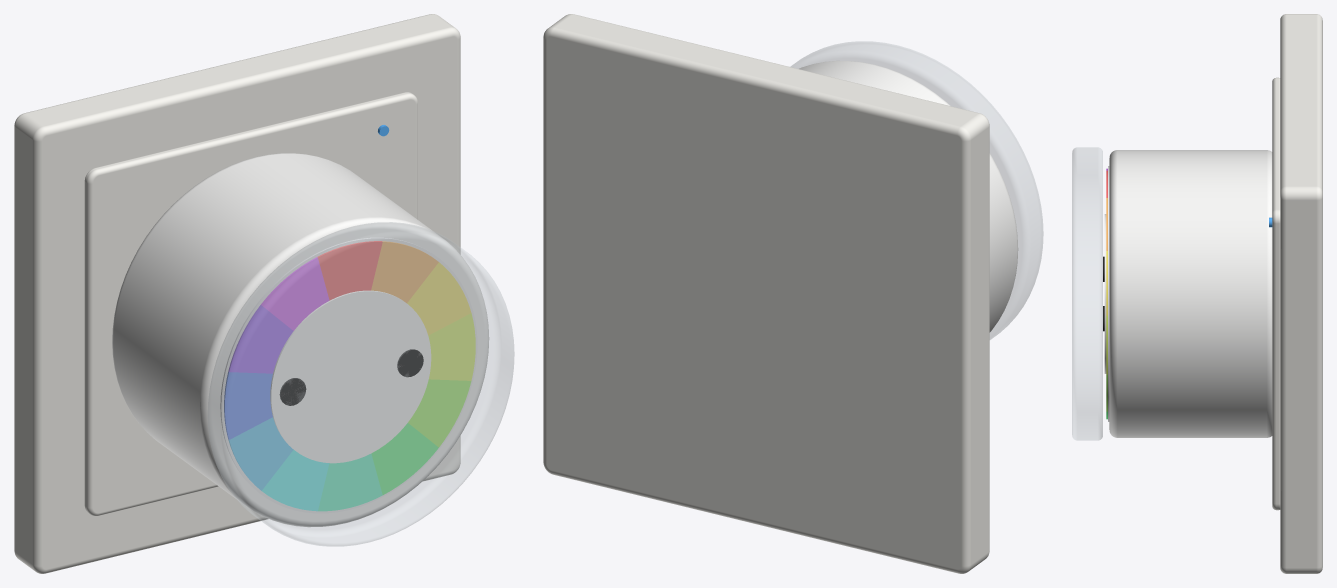
Rendered from nice_zigbee_plug.glb.
3 views of the same model, side by side, from view 1: azimuth 30°, elevation 25°; view 2: azimuth 150°, elevation 25°; view 3: azimuth 270°, elevation 25° (orthographic). The views are drawn at different scales.
Visible parts, largest first — view 1: nice_zigbee_plug; view 2: nice_zigbee_plug; view 3: nice_zigbee_plug.
Part boxes in pixels (x1,y1,x2,y2): nice_zigbee_plug: (14, 14, 514, 573); nice_zigbee_plug: (543, 14, 1043, 573); nice_zigbee_plug: (1072, 14, 1322, 573).
Size of the model in its own units: 0.08 by 0.08 by 0.047.
